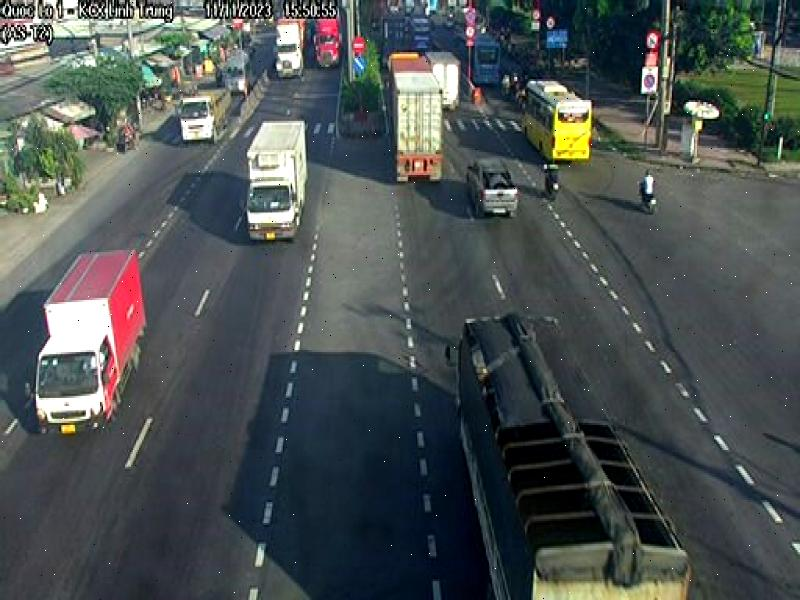bus: (520, 77, 594, 165), (451, 21, 501, 92)
truck: (456, 311, 693, 600), (34, 248, 148, 441), (243, 118, 312, 243), (386, 51, 447, 188), (180, 81, 233, 147)
